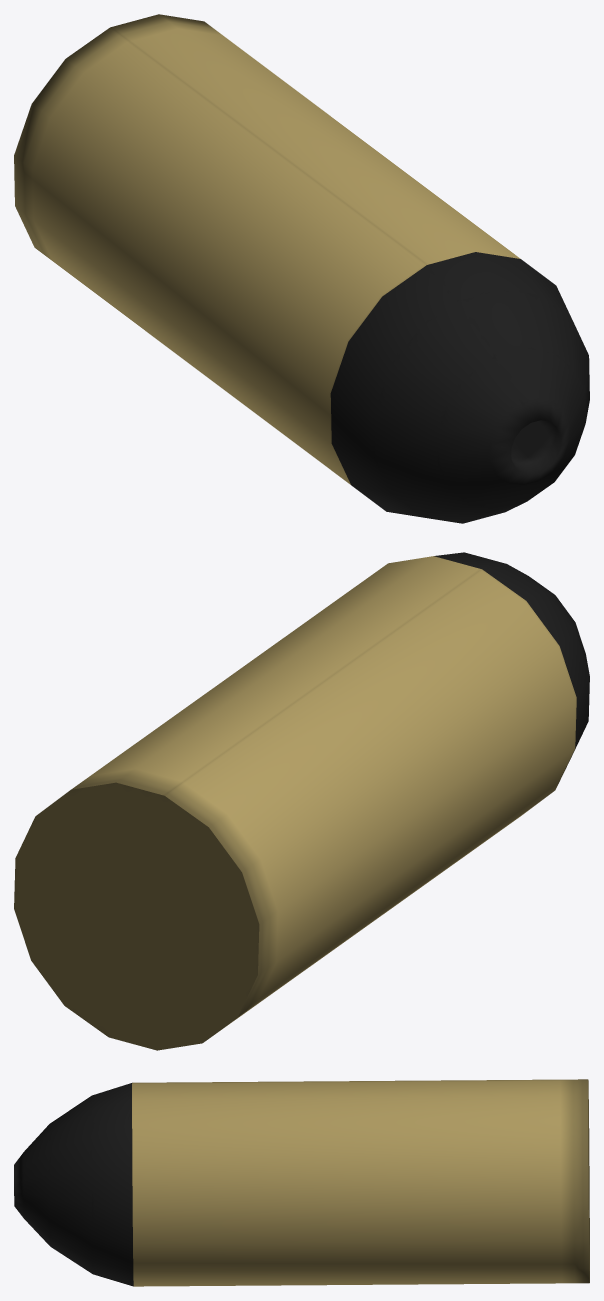
Rendered from s3d_shell_9mm.fbx.
3 views of the same model, one above another, from view 1: azimuth 30°, elevation 25°; view 2: azimuth 150°, elevation 25°; view 3: azimuth 270°, elevation 25° (orthographic). The views are drawn at different scales.
Parts seen in each view (by area): view 1: s3d_shell_9mm; view 2: s3d_shell_9mm; view 3: s3d_shell_9mm.
Part boxes in pixels (box(x1,y1,x2,y2)): s3d_shell_9mm: box(14, 14, 589, 523); s3d_shell_9mm: box(14, 552, 589, 1050); s3d_shell_9mm: box(14, 1079, 589, 1286).
Size of the model in its own units: 0.8899 by 0.9042 by 2.5.
